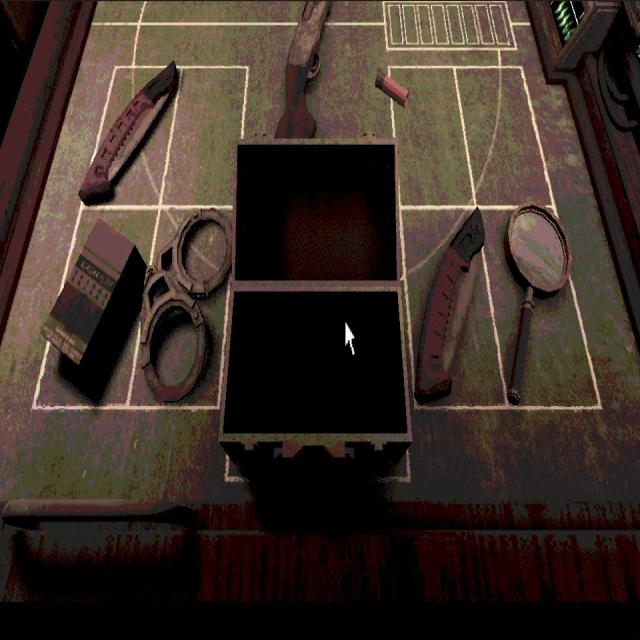cigar: (43, 220, 146, 401)
doubledamage: (79, 61, 179, 204), (414, 208, 484, 404)
emptyspace: (461, 64, 556, 208), (161, 65, 246, 211), (393, 65, 474, 205)
handcuff: (140, 208, 231, 404)
inventorybox: (220, 136, 412, 446)
lens: (504, 206, 571, 404)
